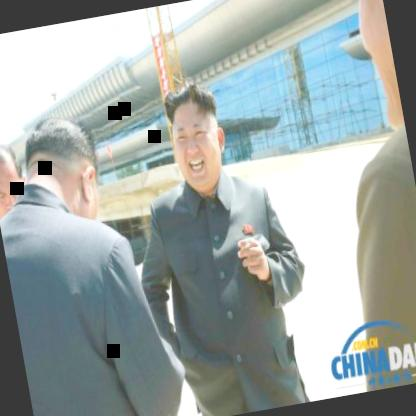head: (13, 102, 112, 228), (158, 76, 233, 198), (0, 138, 27, 215)
